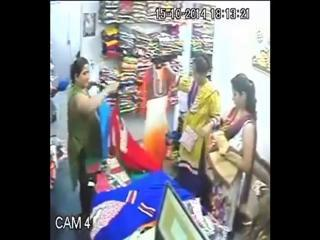Normal: (202, 73, 257, 236), (66, 56, 115, 220), (173, 55, 222, 196)
